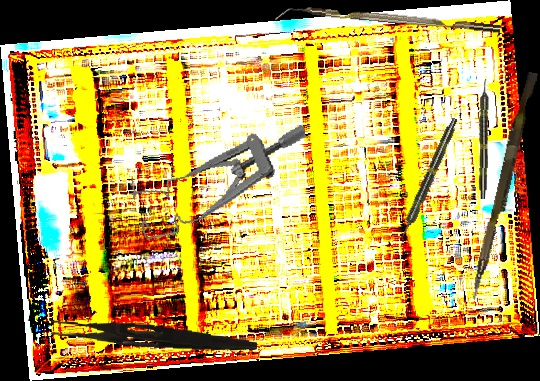Chopper: (275, 1, 501, 44)
Dressing Forceps: (50, 319, 258, 354)
Handpiece: (396, 116, 461, 241), (477, 78, 491, 200)
Pusher: (469, 70, 539, 302)
Speculum: (125, 121, 321, 243)
